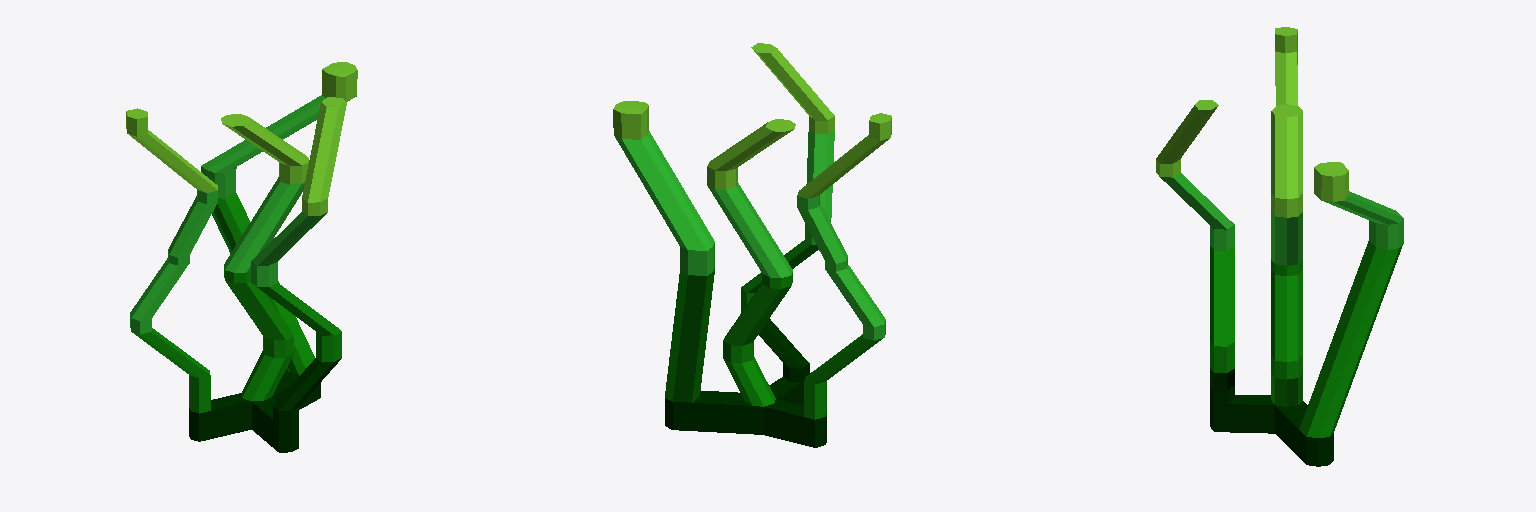
File: tall_coral.obj
3 renders of one model, left to right at view 1: azimuth 30°, elevation 25°; view 2: azimuth 150°, elevation 25°; view 3: azimuth 270°, elevation 25°, orthographic.
Visible parts, largest first — view 1: Cube; view 2: Cube; view 3: Cube.
Part boxes in pixels (x1,y1,x2,y2): Cube: (126,62,357,452); Cube: (613,43,891,447); Cube: (1156,27,1403,466).
Bounding box in the file's own units: 18.53 × 24.1 × 15.81.